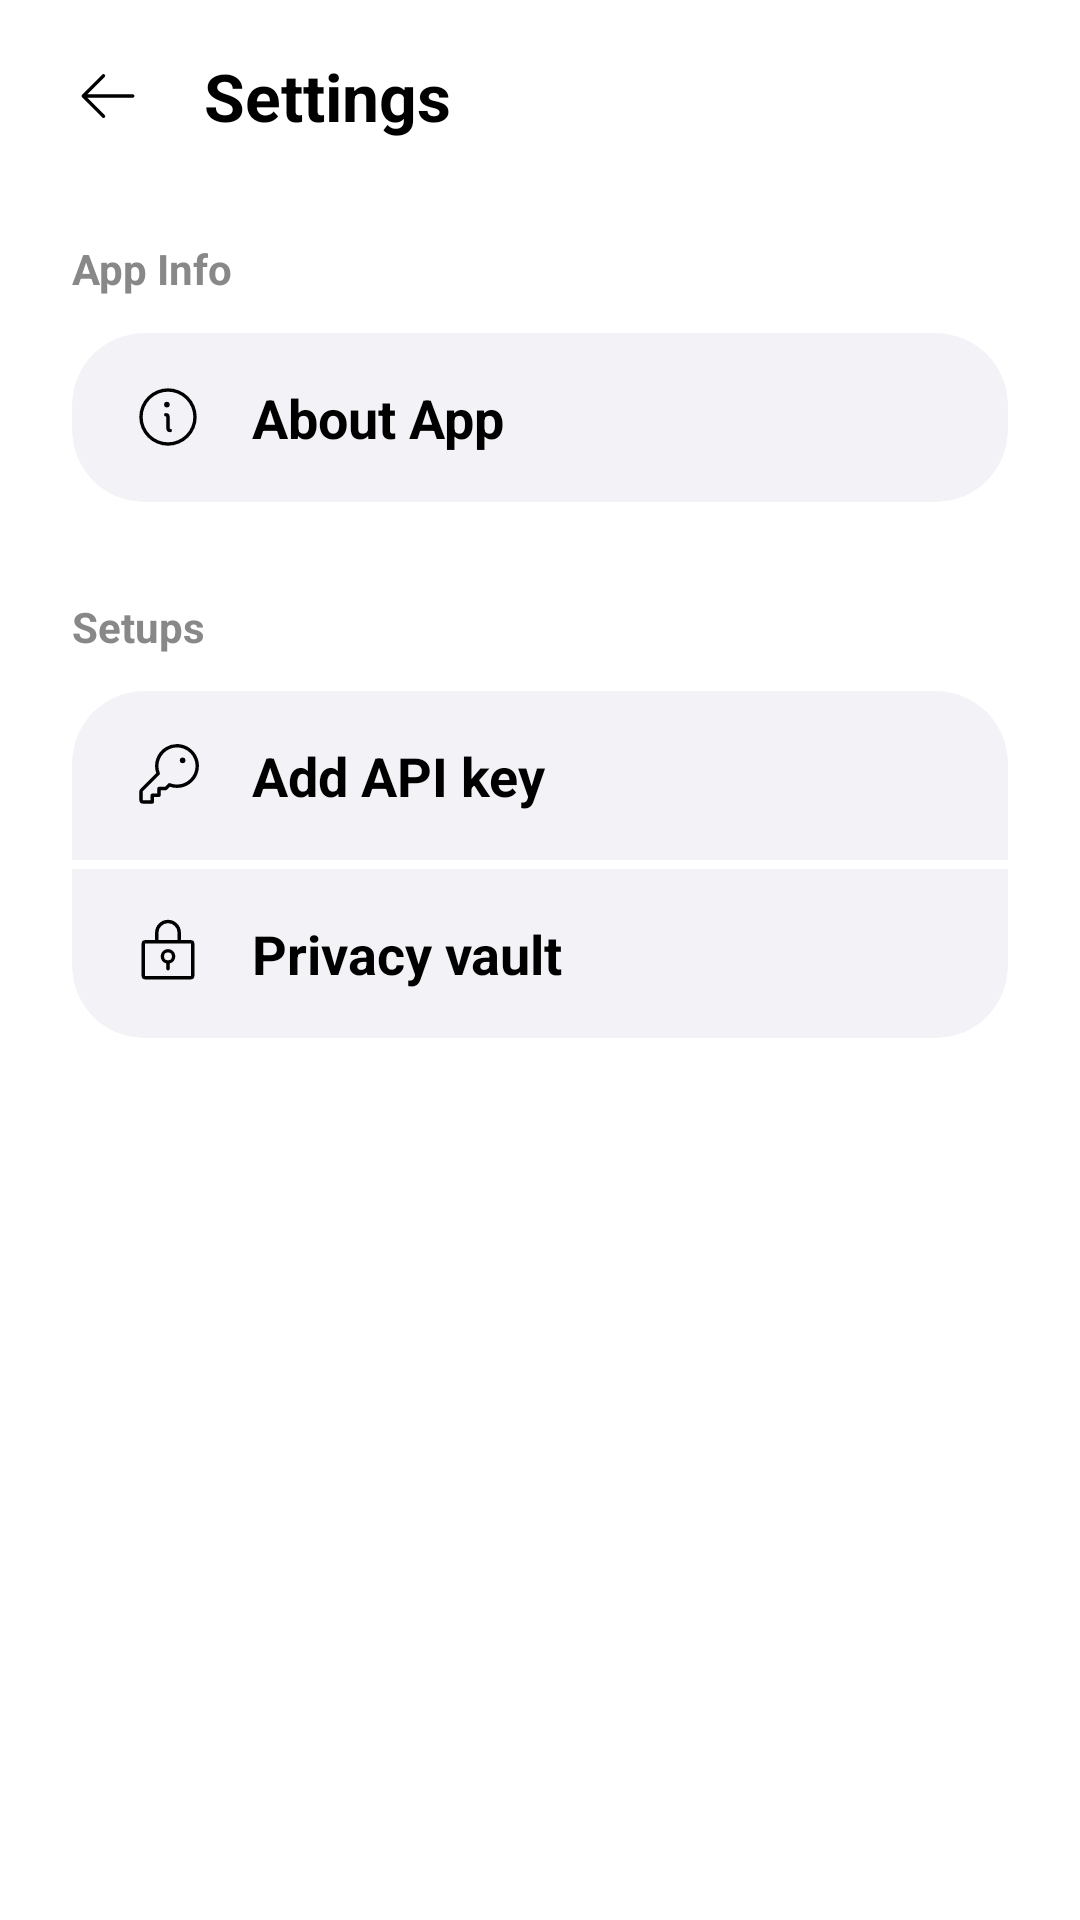

Screen size 1080w x 1920h. Icon name, then its box in pixels as (x1,y1,x2,y2):
back: (81,74,135,118)
private: (141,919,195,980)
